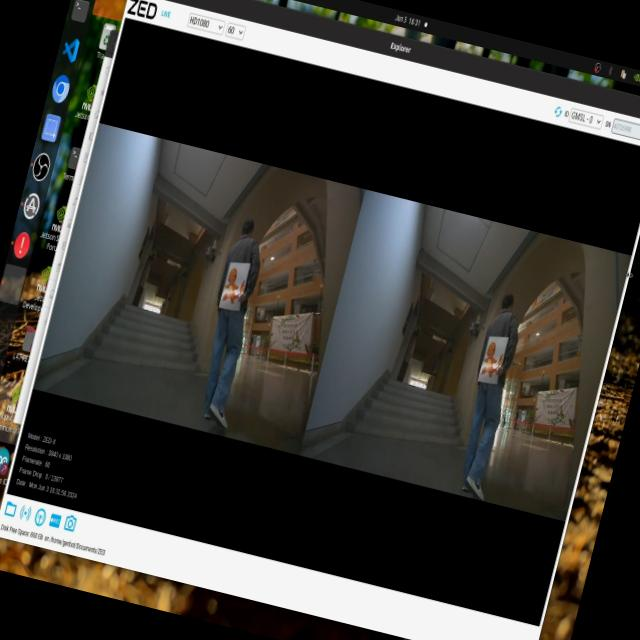red: (216, 264, 252, 316), (475, 336, 509, 383)
